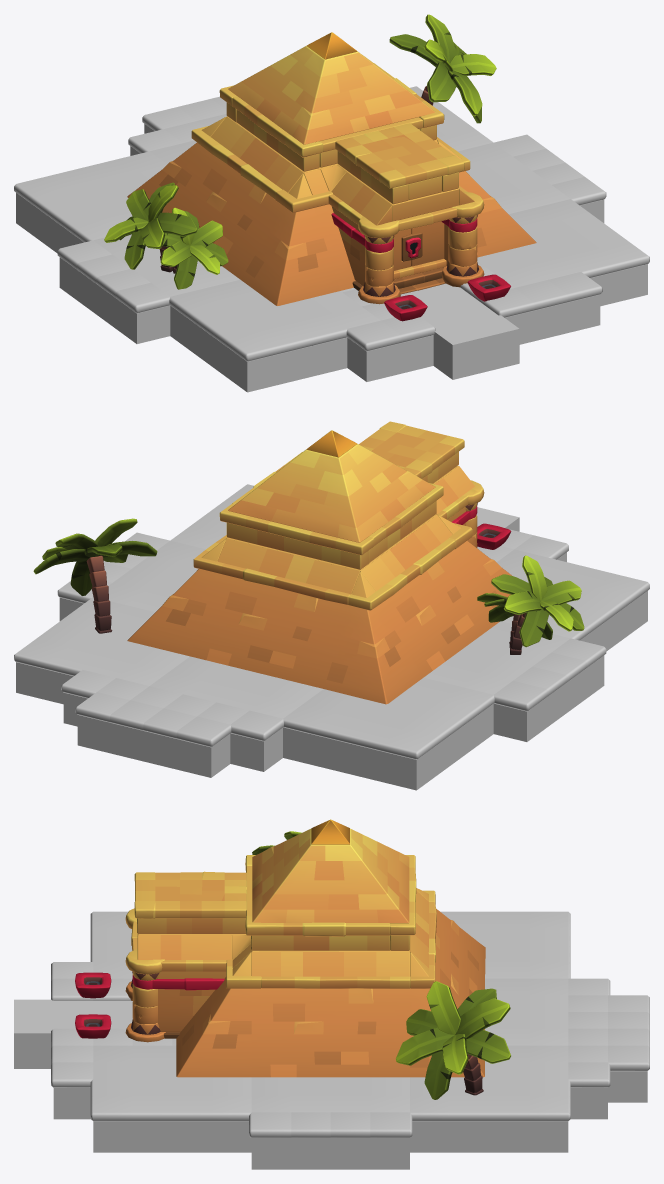
File: sample_island_2.fbx
3 renders of one model, top to bottom at view 1: azimuth 30°, elevation 25°; view 2: azimuth 150°, elevation 25°; view 3: azimuth 270°, elevation 25°, orthographic. The views are drawn at different scales.
Parts seen in each view (by area): view 1: pyramid_entrance, pyramid_entrance_sand, pyramid_entrance_floor; view 2: pyramid_entrance, pyramid_entrance_sand, pyramid_entrance_floor; view 3: pyramid_entrance, pyramid_entrance_sand, pyramid_entrance_floor.
Boxes of the visible parts, x1,y1,x2,y2 form: pyramid_entrance: (104,14,536,321); pyramid_entrance_sand: (14,86,649,361); pyramid_entrance_floor: (16,124,647,392); pyramid_entrance: (33,421,584,704); pyramid_entrance_sand: (14,484,649,759); pyramid_entrance_floor: (16,507,647,790); pyramid_entrance: (75,819,510,1099); pyramid_entrance_sand: (51,911,649,1137); pyramid_entrance_floor: (14,999,647,1169).
Size of the model in its own units: 2825 by 1297 by 3212.
